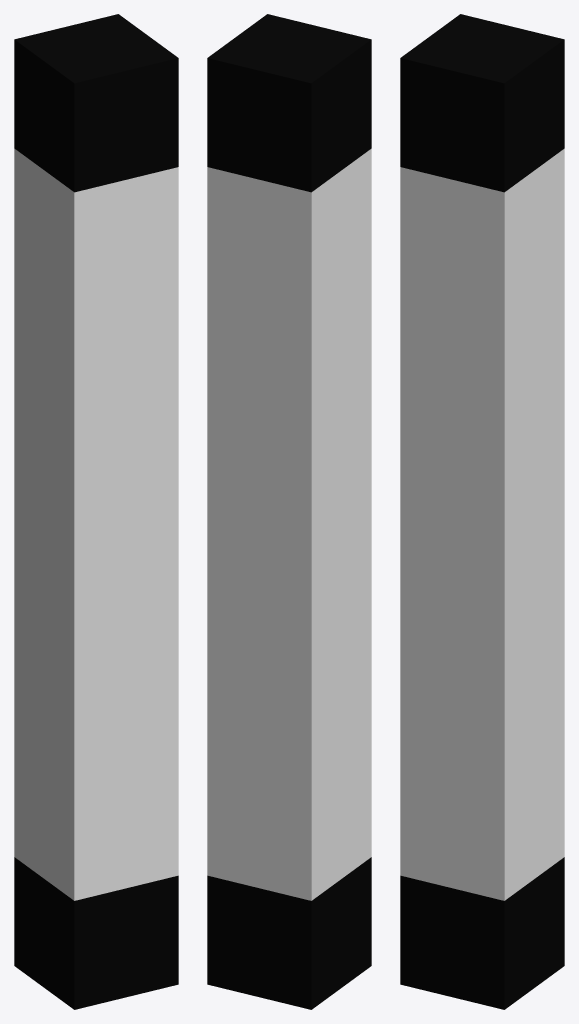
File: palka.obj
The picture shows the model from 3 angles, left to right: view 1: azimuth 30°, elevation 25°; view 2: azimuth 150°, elevation 25°; view 3: azimuth 330°, elevation 25°; orthographic projection.
Parts seen in each view (by area): view 1: Untitled; view 2: Untitled; view 3: Untitled.
Boxes of the visible parts, <box> form: Untitled: <box>14,14,178,1009</box>; Untitled: <box>207,14,371,1009</box>; Untitled: <box>400,14,564,1009</box>.
Bounding box in the file's own units: 0.0235 × 0.2 × 0.0235.
1 material, 1 textured.
